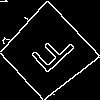F: (23, 27, 77, 82)
